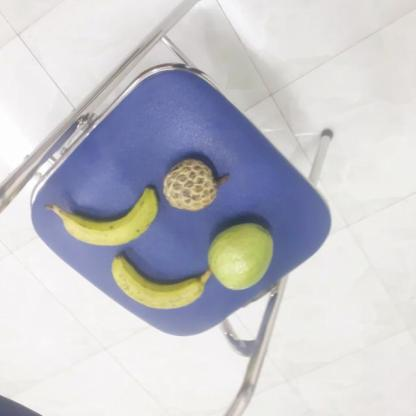annona: (163, 158, 227, 212)
banana: (63, 184, 164, 246), (112, 247, 212, 308)
